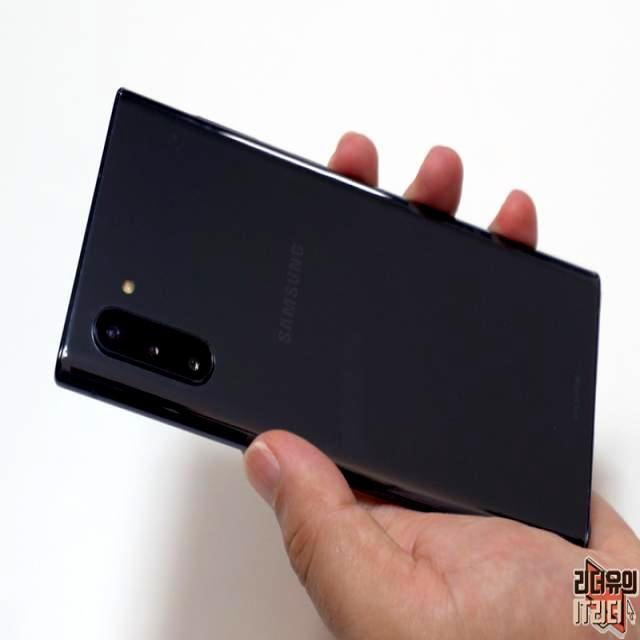lens_back: (178, 342, 208, 382), (95, 315, 127, 347), (144, 333, 174, 364)
phone: (51, 81, 606, 549)
